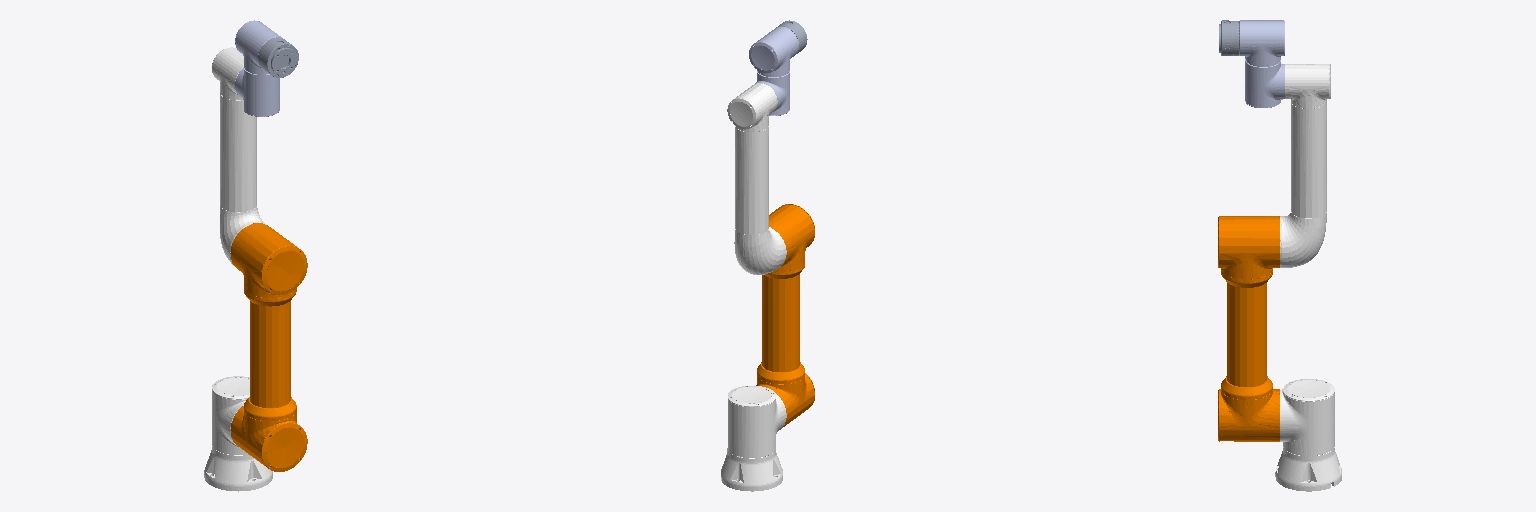
The robot description file, URDF, robot "FR5":
<?xml version="1.0" encoding="utf-8"?>
<!-- This URDF was automatically created by SolidWorks to URDF Exporter! Originally created by [author] ([email redacted]) 
     Commit Version: 1.6.0-4-g7f85cfe  Build Version: 1.6.7995.38578
     For more information, please see http://wiki.ros.org/sw_urdf_exporter -->
<robot
  name="FR5">
  <link
    name="base_link">
    <inertial>
      <origin
        xyz="-0.000318956334379786 0.0424634278853759 0.000296731941359847"
        rpy="0 0 0" />
      <mass
        value="0.599445534393006" />
      <inertia
        ixx="0.00114206030442934"
        ixy="-7.15379469999523E-06"
        ixz="-5.68649059708126E-06"
        iyy="0.00167440728779363"
        iyz="6.63620502605694E-06"
        izz="0.00114168272876612" />
    </inertial>
    <visual>
      <origin
        xyz="0 0 0"
        rpy="0 0 0" />
      <geometry>
        <mesh
          filename="package://FR5/meshes/base_link.STL" />
      </geometry>
      <material
        name="">
        <color
          rgba="1 1 1 1" />
      </material>
    </visual>
    <collision>
      <origin
        xyz="0 0 0"
        rpy="0 0 0" />
      <geometry>
        <mesh
          filename="package://FR5/meshes/base_link.STL" />
      </geometry>
    </collision>
  </link>
  <link
    name="Link_1">
    <inertial>
      <origin
        xyz="3.14248391854288E-07 0.0722971481745178 0.00409704327529289"
        rpy="0 0 0" />
      <mass
        value="1.62144524319144" />
      <inertia
        ixx="0.0039730540694634"
        ixy="-2.35159393739738E-08"
        ixz="-8.26544630738003E-10"
        iyy="0.0030289160958611"
        iyz="-4.772687273196E-05"
        izz="0.00385357913706097" />
    </inertial>
    <visual>
      <origin
        xyz="0 0 0"
        rpy="0 0 0" />
      <geometry>
        <mesh
          filename="package://FR5/meshes/Link_1.STL" />
      </geometry>
      <material
        name="">
        <color
          rgba="1 1 1 1" />
      </material>
    </visual>
    <collision>
      <origin
        xyz="0 0 0"
        rpy="0 0 0" />
      <geometry>
        <mesh
          filename="package://FR5/meshes/Link_1.STL" />
      </geometry>
    </collision>
  </link>
  <joint
    name="J1"
    type="continuous">
    <origin
      xyz="0 0 0.073995"
      rpy="1.5708 0 0" />
    <parent
      link="base_link" />
    <child
      link="Link_1" />
    <axis
      xyz="0 1 0" />
  </joint>
  <link
    name="Link_2">
    <inertial>
      <origin
        xyz="-0.212499308599412 6.44395092906764E-08 0.0746126182262269"
        rpy="0 0 0" />
      <mass
        value="5.35553310056889" />
      <inertia
        ixx="0.0105141689185762"
        ixy="8.47394157036307E-07"
        ixz="-7.13377002825584E-07"
        iyy="0.168845342797303"
        iyz="-1.33055343819621E-07"
        izz="0.166564407800873" />
    </inertial>
    <visual>
      <origin
        xyz="0 0 0"
        rpy="0 0 0" />
      <geometry>
        <mesh
          filename="package://FR5/meshes/Link_2.STL" />
      </geometry>
      <material
        name="">
        <color
          rgba="1 0.545098039215686 0 1" />
      </material>
    </visual>
    <collision>
      <origin
        xyz="0 0 0"
        rpy="0 0 0" />
      <geometry>
        <mesh
          filename="package://FR5/meshes/Link_2.STL" />
      </geometry>
    </collision>
  </link>
  <joint
    name="J2"
    type="continuous">
    <origin
      xyz="0 0.078005 0.059795"
      rpy="0 0 -1.5708" />
    <parent
      link="Link_1" />
    <child
      link="Link_2" />
    <axis
      xyz="0 0 1" />
  </joint>
  <link
    name="Link_3">
    <inertial>
      <origin
        xyz="-0.187988130249523 2.19699398000276E-06 -0.0531566052890365"
        rpy="0 0 0" />
      <mass
        value="2.84180149560993" />
      <inertia
        ixx="0.00315084273123314"
        ixy="3.99950246324936E-07"
        ixz="-0.00254083713110811"
        iyy="0.0628440670460744"
        iyz="1.48702916959308E-07"
        izz="0.0624112448720477" />
    </inertial>
    <visual>
      <origin
        xyz="0 0 0"
        rpy="0 0 0" />
      <geometry>
        <mesh
          filename="package://FR5/meshes/Link_3.STL" />
      </geometry>
      <material
        name="">
        <color
          rgba="1 1 1 1" />
      </material>
    </visual>
    <collision>
      <origin
        xyz="0 0 0"
        rpy="0 0 0" />
      <geometry>
        <mesh
          filename="package://FR5/meshes/Link_3.STL" />
      </geometry>
    </collision>
  </link>
  <joint
    name="J3"
    type="continuous">
    <origin
      xyz="-0.425 0 0"
      rpy="0 0 0" />
    <parent
      link="Link_2" />
    <child
      link="Link_3" />
    <axis
      xyz="0 0 1" />
  </joint>
  <link
    name="Link_4">
    <inertial>
      <origin
        xyz="2.5803535688984E-07 -0.00373781523290517 0.0370610606061226"
        rpy="0 0 0" />
      <mass
        value="0.602647151987744" />
      <inertia
        ixx="0.000799624094321744"
        ixy="5.56026667285951E-09"
        ixz="1.09853394336186E-08"
        iyy="0.000572240282383422"
        iyz="1.39810041027403E-05"
        izz="0.000736731215719506" />
    </inertial>
    <visual>
      <origin
        xyz="0 0 0"
        rpy="0 0 0" />
      <geometry>
        <mesh
          filename="package://FR5/meshes/Link_4.STL" />
      </geometry>
      <material
        name="">
        <color
          rgba="0.792156862745098 0.819607843137255 0.929411764705882 1" />
      </material>
    </visual>
    <collision>
      <origin
        xyz="0 0 0"
        rpy="0 0 0" />
      <geometry>
        <mesh
          filename="package://FR5/meshes/Link_4.STL" />
      </geometry>
    </collision>
  </link>
  <joint
    name="J4"
    type="continuous">
    <origin
      xyz="-0.39501 0 0"
      rpy="0 0 -1.5708" />
    <parent
      link="Link_3" />
    <child
      link="Link_4" />
    <axis
      xyz="0 0 1" />
  </joint>
  <link
    name="Link_5">
    <inertial>
      <origin
        xyz="-2.65792619447547E-07 -0.045058325607378 0.00384492672991213"
        rpy="0 0 0" />
      <mass
        value="0.585859255416681" />
      <inertia
        ixx="0.00076304073358568"
        ixy="1.13129395939287E-08"
        ixz="5.52165052112889E-09"
        iyy="0.000724546261667257"
        iyz="1.05849800870907E-05"
        izz="0.000536037719580454" />
    </inertial>
    <visual>
      <origin
        xyz="0 0 0"
        rpy="0 0 0" />
      <geometry>
        <mesh
          filename="package://FR5/meshes/Link_5.STL" />
      </geometry>
      <material
        name="">
        <color
          rgba="0.792156862745098 0.819607843137255 0.929411764705882 1" />
      </material>
    </visual>
    <collision>
      <origin
        xyz="0 0 0"
        rpy="0 0 0" />
      <geometry>
        <mesh
          filename="package://FR5/meshes/Link_5.STL" />
      </geometry>
    </collision>
  </link>
  <joint
    name="J5"
    type="continuous">
    <origin
      xyz="0 -0.057 0.042005"
      rpy="0 0 0" />
    <parent
      link="Link_4" />
    <child
      link="Link_5" />
    <axis
      xyz="0 1 0" />
  </joint>
  <link
    name="Empty_Link">
    <inertial>
      <origin
        xyz="-2.39745138341796E-05 0.0229219663437983 7.59525357927338E-05"
        rpy="0 0 0" />
      <mass
        value="0.194599495872035" />
      <inertia
        ixx="0.000102993340356853"
        ixy="9.4496112229953E-08"
        ixz="1.9030030540061E-07"
        iyy="0.00015409235874183"
        iyz="4.44557640516086E-09"
        izz="0.00010278076102126" />
    </inertial>
    <visual>
      <origin
        xyz="0 0 0"
        rpy="0 0 0" />
      <geometry>
        <mesh
          filename="package://FR5/meshes/Empty_Link.STL" />
      </geometry>
      <material
        name="">
        <color
          rgba="0.666666666666667 0.698039215686274 0.764705882352941 1" />
      </material>
    </visual>
    <collision>
      <origin
        xyz="0 0 0"
        rpy="0 0 0" />
      <geometry>
        <mesh
          filename="package://FR5/meshes/Empty_Link.STL" />
      </geometry>
    </collision>
  </link>
  <joint
    name="J6"
    type="continuous">
    <origin
      xyz="0 -0.0488 0.053"
      rpy="1.5708 0 2.0705" />
    <parent
      link="Link_5" />
    <child
      link="Empty_Link" />
    <axis
      xyz="0 1 0" />
  </joint>
</robot>

--- What the picture shows (computed from the rendered views, not written in the file) ---
The picture shows the robot from 3 angles, left to right: view 1: azimuth 30°, elevation 25°; view 2: azimuth 150°, elevation 25°; view 3: azimuth 270°, elevation 25°; orthographic projection.
Model FR5 with 7 links and 6 joints (6 continuous), rooted at base_link, posed every joint at zero.
Links seen in each view (by area): view 1: Link_2, Link_3, Link_1, base_link, Link_4, Link_5, Empty_Link; view 2: Link_2, Link_3, Link_1, base_link, Link_5, Link_4; view 3: Link_2, Link_3, Link_1, base_link, Link_5, Link_4, Empty_Link.
Link boxes in pixels (bbox=[...]): Link_2: bbox=[230, 223, 307, 471]; Link_3: bbox=[212, 47, 265, 265]; Link_1: bbox=[212, 376, 249, 454]; base_link: bbox=[204, 446, 272, 491]; Link_4: bbox=[235, 68, 279, 116]; Link_5: bbox=[235, 20, 281, 72]; Empty_Link: bbox=[258, 37, 298, 77]; Link_2: bbox=[756, 204, 814, 429]; Link_3: bbox=[727, 83, 786, 274]; Link_1: bbox=[728, 386, 786, 457]; base_link: bbox=[721, 448, 782, 491]; Link_5: bbox=[749, 27, 798, 75]; Link_4: bbox=[755, 71, 789, 115]; Link_2: bbox=[1218, 216, 1279, 441]; Link_3: bbox=[1280, 64, 1330, 267]; Link_1: bbox=[1280, 379, 1334, 455]; base_link: bbox=[1275, 447, 1341, 491]; Link_5: bbox=[1239, 20, 1284, 65]; Link_4: bbox=[1245, 59, 1284, 107]; Empty_Link: bbox=[1219, 20, 1238, 55].
Bounding box of the posed robot: 0.149 × 0.2777 × 1.12 m (x, y, z).
Meshes: 7 distinct files referenced, 7 mesh visuals loaded (7 binary STL).